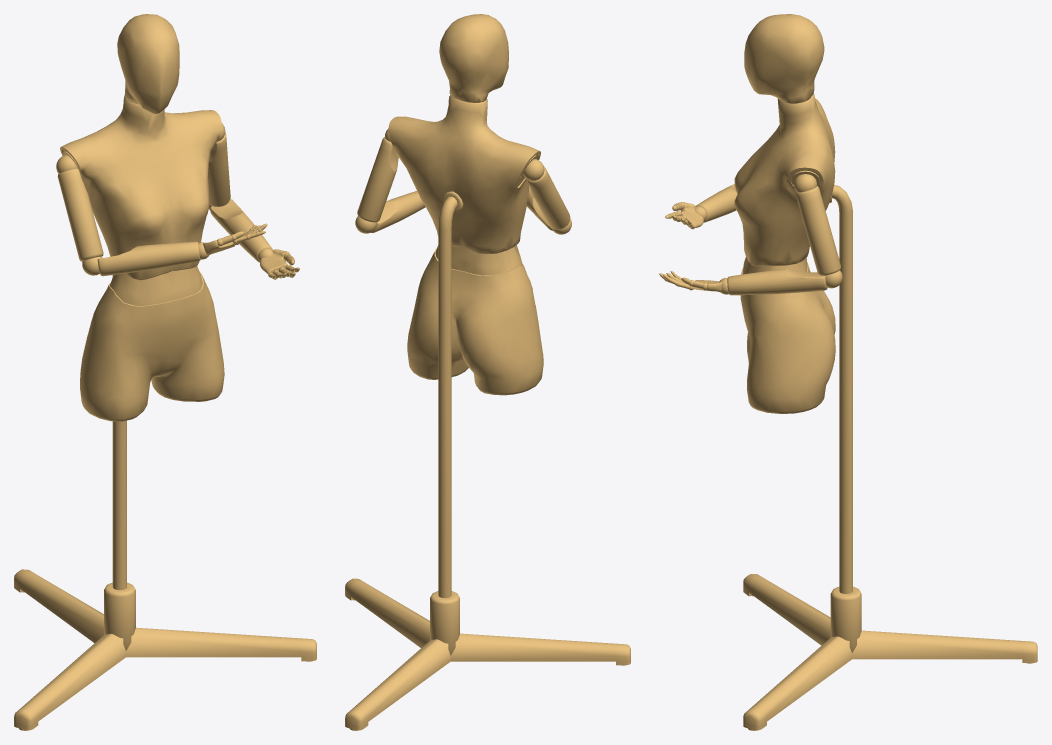
The model's file is Mannequin_1_3.fbx.
3 renders of one model, left to right at view 1: azimuth 30°, elevation 25°; view 2: azimuth 150°, elevation 25°; view 3: azimuth 270°, elevation 25°, orthographic. The views are drawn at different scales.
Parts seen in each view (by area): view 1: SM_Mannequin_1_3; view 2: SM_Mannequin_1_3; view 3: SM_Mannequin_1_3.
Part boxes in pixels (x1=…): SM_Mannequin_1_3: x1=14, y1=14, x2=316, y2=730; SM_Mannequin_1_3: x1=345, y1=14, x2=630, y2=730; SM_Mannequin_1_3: x1=659, y1=14, x2=1037, y2=730.
Bounding box in the file's own units: 82.09 × 172 × 91.76.
